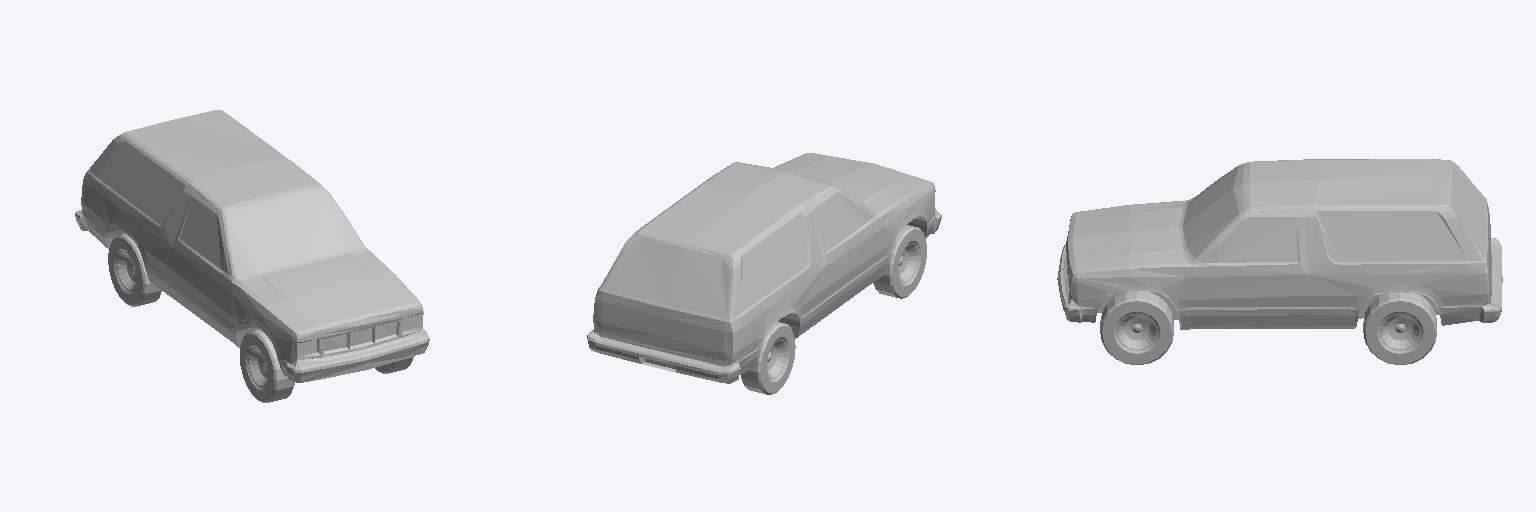
Rendered from suv.obj.
3 renders of one model, left to right at view 1: azimuth 30°, elevation 25°; view 2: azimuth 150°, elevation 25°; view 3: azimuth 270°, elevation 25°, orthographic.
Visible parts, largest first — view 1: roof, bodyglas, hood, body, rdoor, bumpers, rftire, rdoorgls, btires, grill, brims, rfrim; view 2: roof, bodyglas, body, rdoor, hood, bumpers, rftire, btires, rdoorgls, rlights, rfrim, brims; view 3: roof, body, bodyglas, ldoor, hood, lftire, btires, ldoorgls, bumpers, brims, lfrim, under.
Part boxes in pixels (left/top/right/bottom): roof: left=83, top=110, right=364, bottom=277; bodyglas: left=97, top=141, right=360, bottom=273; hood: left=240, top=250, right=420, bottom=337; body: left=82, top=185, right=425, bottom=376; rdoor: left=170, top=190, right=232, bottom=341; bumpers: left=75, top=210, right=429, bottom=382; rftire: left=240, top=329, right=294, bottom=402; rdoorgls: left=180, top=197, right=223, bottom=268; btires: left=108, top=234, right=161, bottom=306; grill: left=297, top=312, right=423, bottom=359; brims: left=117, top=251, right=136, bottom=290; rfrim: left=248, top=347, right=268, bottom=386; roof: left=595, top=162, right=875, bottom=332; bodyglas: left=605, top=212, right=808, bottom=317; body: left=594, top=153, right=937, bottom=374; rdoor: left=808, top=188, right=883, bottom=318; hood: left=776, top=153, right=929, bottom=212; bumpers: left=587, top=212, right=941, bottom=383; rftire: left=873, top=225, right=926, bottom=298; btires: left=741, top=322, right=795, bottom=394; rdoorgls: left=814, top=193, right=864, bottom=251; rlights: left=593, top=299, right=739, bottom=360; rfrim: left=898, top=243, right=918, bottom=282; brims: left=767, top=339, right=786, bottom=378; roof: left=1179, top=159, right=1489, bottom=274; body: left=1063, top=199, right=1491, bottom=329; bodyglas: left=1182, top=164, right=1485, bottom=261; ldoor: left=1189, top=211, right=1307, bottom=326; hood: left=1066, top=200, right=1186, bottom=274; lftire: left=1100, top=291, right=1173, bottom=364; btires: left=1363, top=292, right=1436, bottom=364; ldoorgls: left=1218, top=217, right=1297, bottom=262; bumpers: left=1057, top=238, right=1502, bottom=322; brims: left=1380, top=313, right=1420, bottom=350; lfrim: left=1117, top=313, right=1157, bottom=350; under: left=1098, top=292, right=1439, bottom=319.
Size of the model in its own units: 0.1683 by 0.1639 by 0.4351.